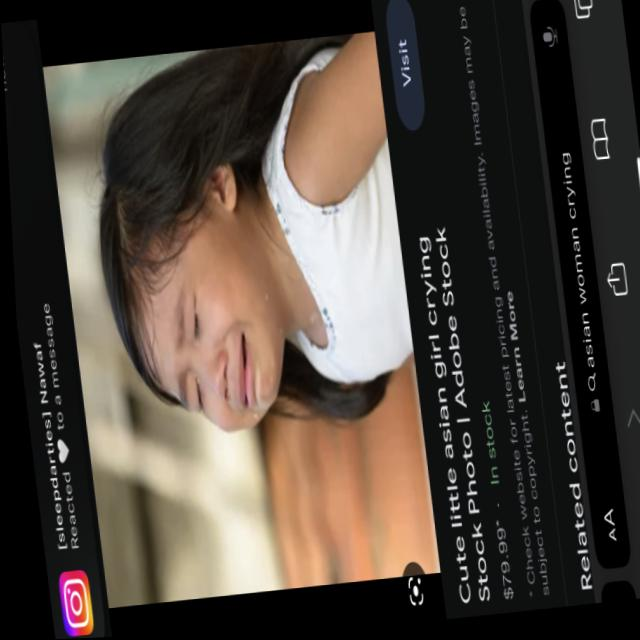sad: (106, 156, 299, 407)
